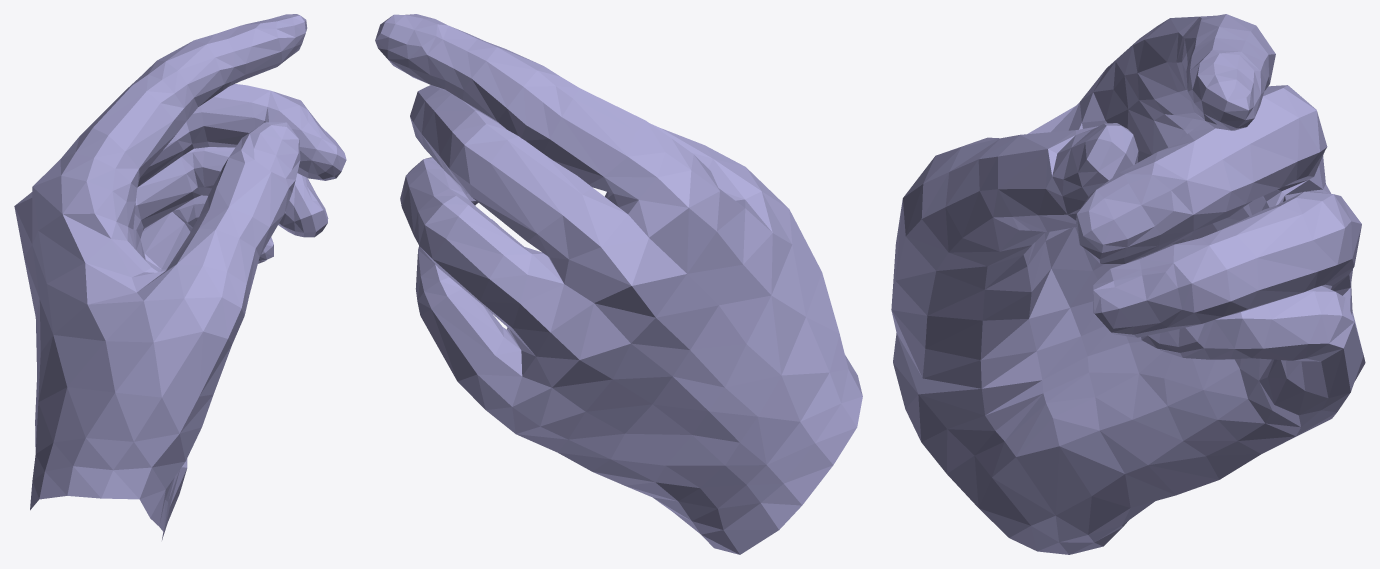
Rendered from hand_0051.glb.
3 renders of one model, left to right at view 1: azimuth 30°, elevation 25°; view 2: azimuth 150°, elevation 25°; view 3: azimuth 270°, elevation 25°, orthographic. The views are drawn at different scales.
Visible parts, largest first — view 1: world; view 2: world; view 3: world.
Boxes of the visible parts, <box> form: world: <box>14,14,346,539</box>; world: <box>375,14,862,554</box>; world: <box>891,14,1365,554</box>.
Size of the model in its own units: 0.1112 by 0.1375 by 0.0928.
